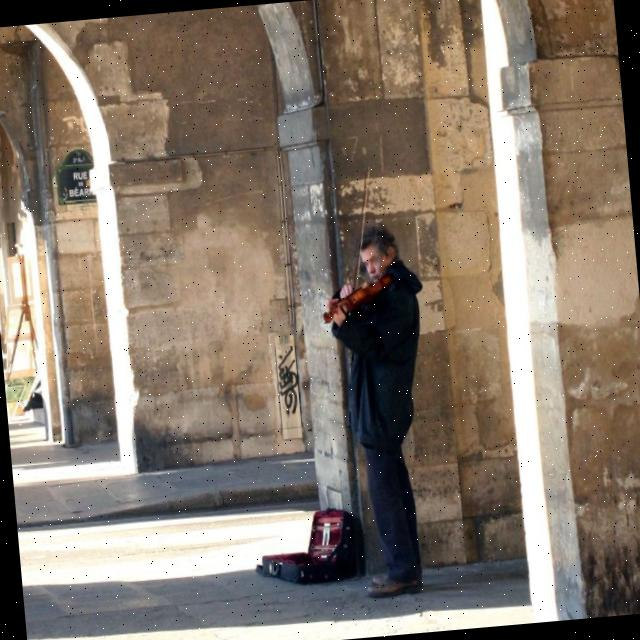violin: (316, 272, 404, 321)
